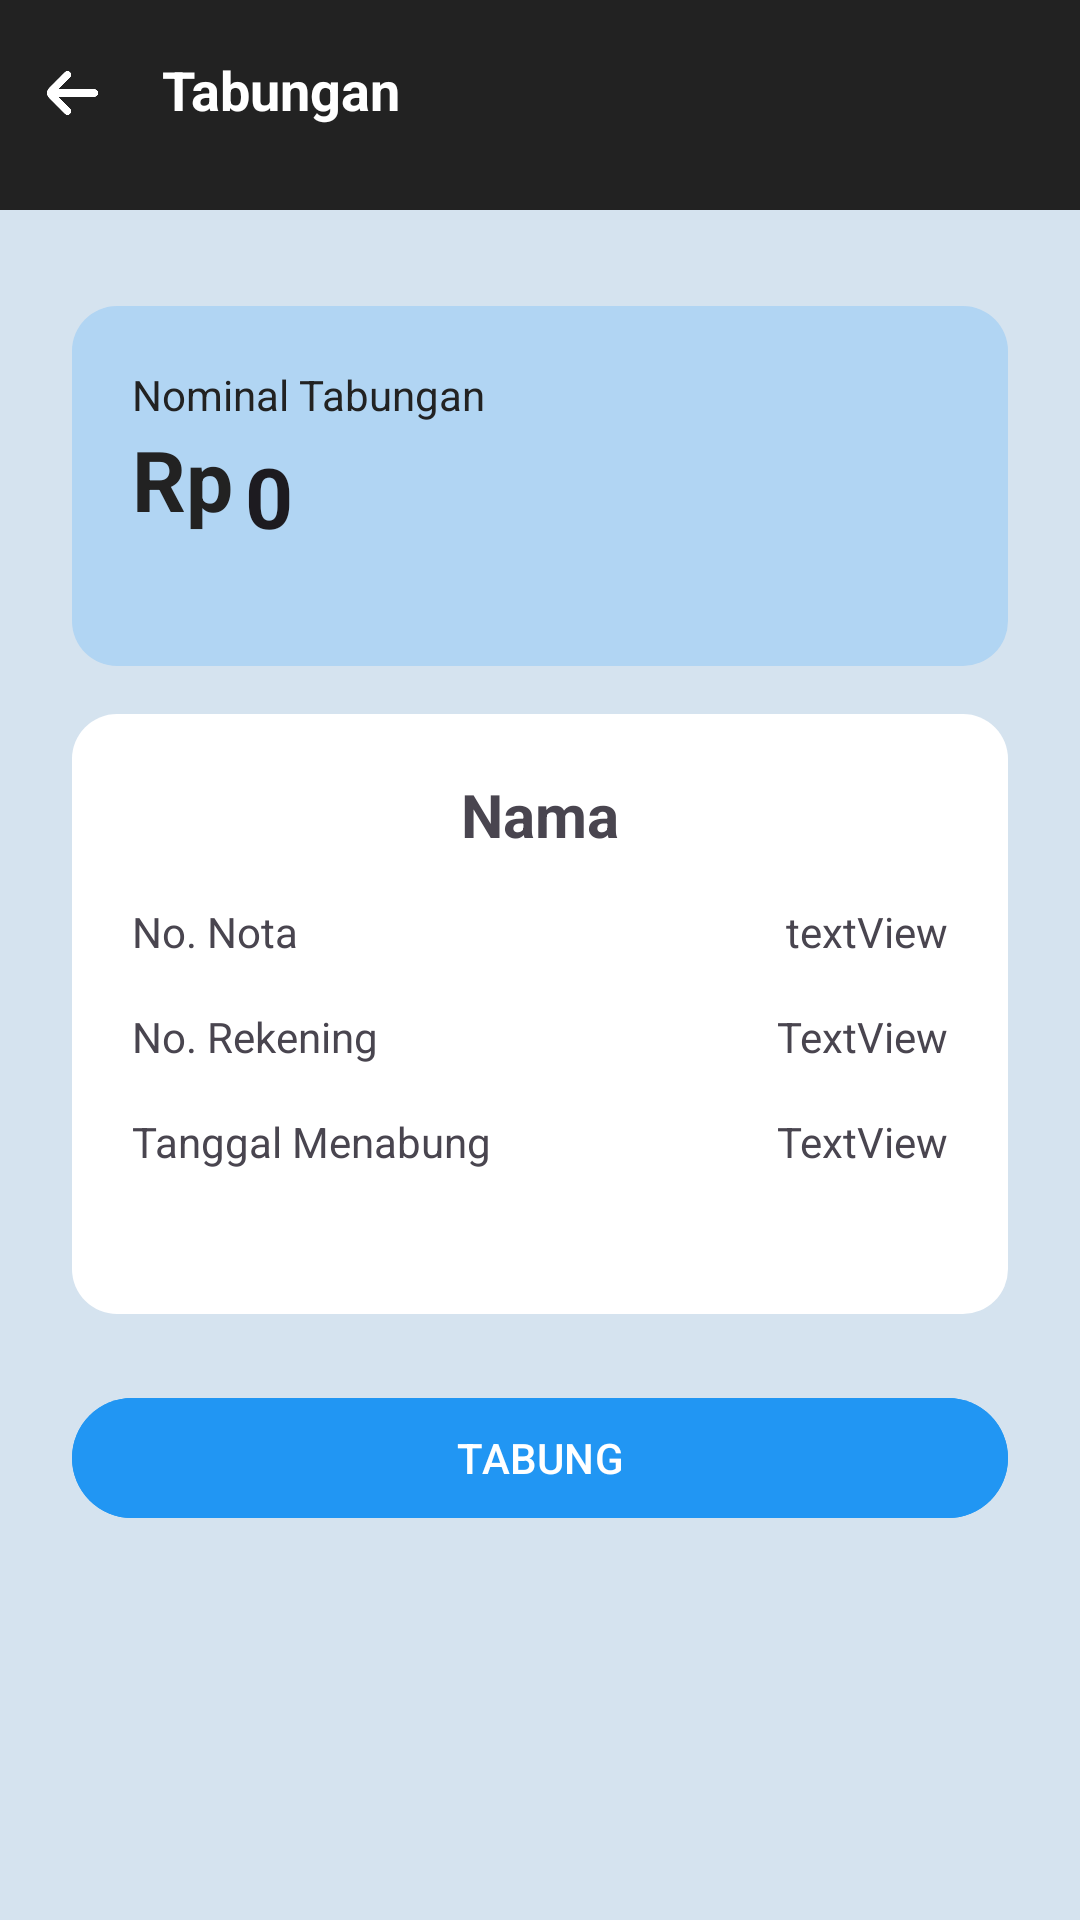

Where to tap for icons on this 1080px x 1920px app screen, as (x=x, y=y):
arrow: (x=72, y=93)
